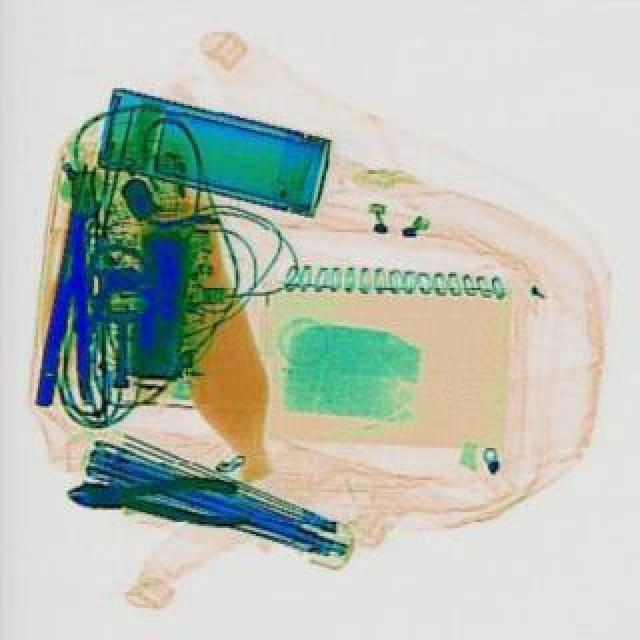wrench: (64, 468, 250, 526)
